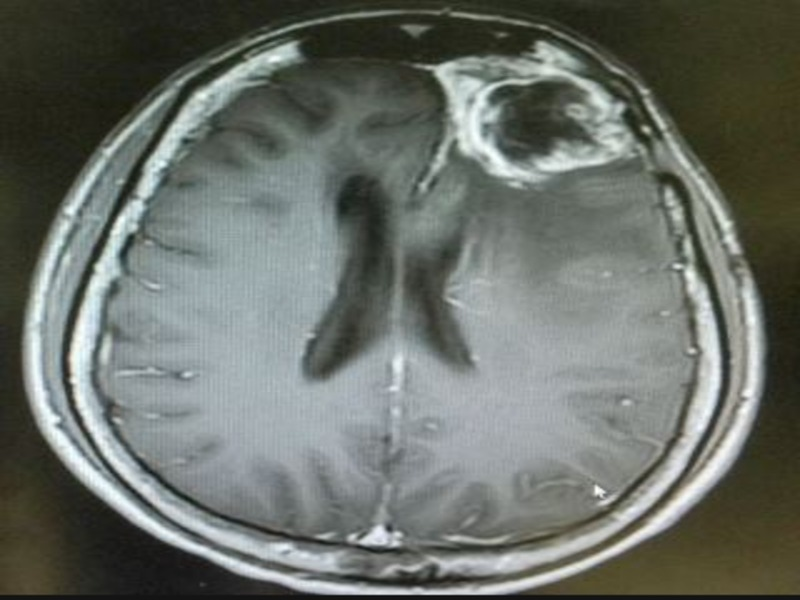tumor: (430, 37, 633, 188)
